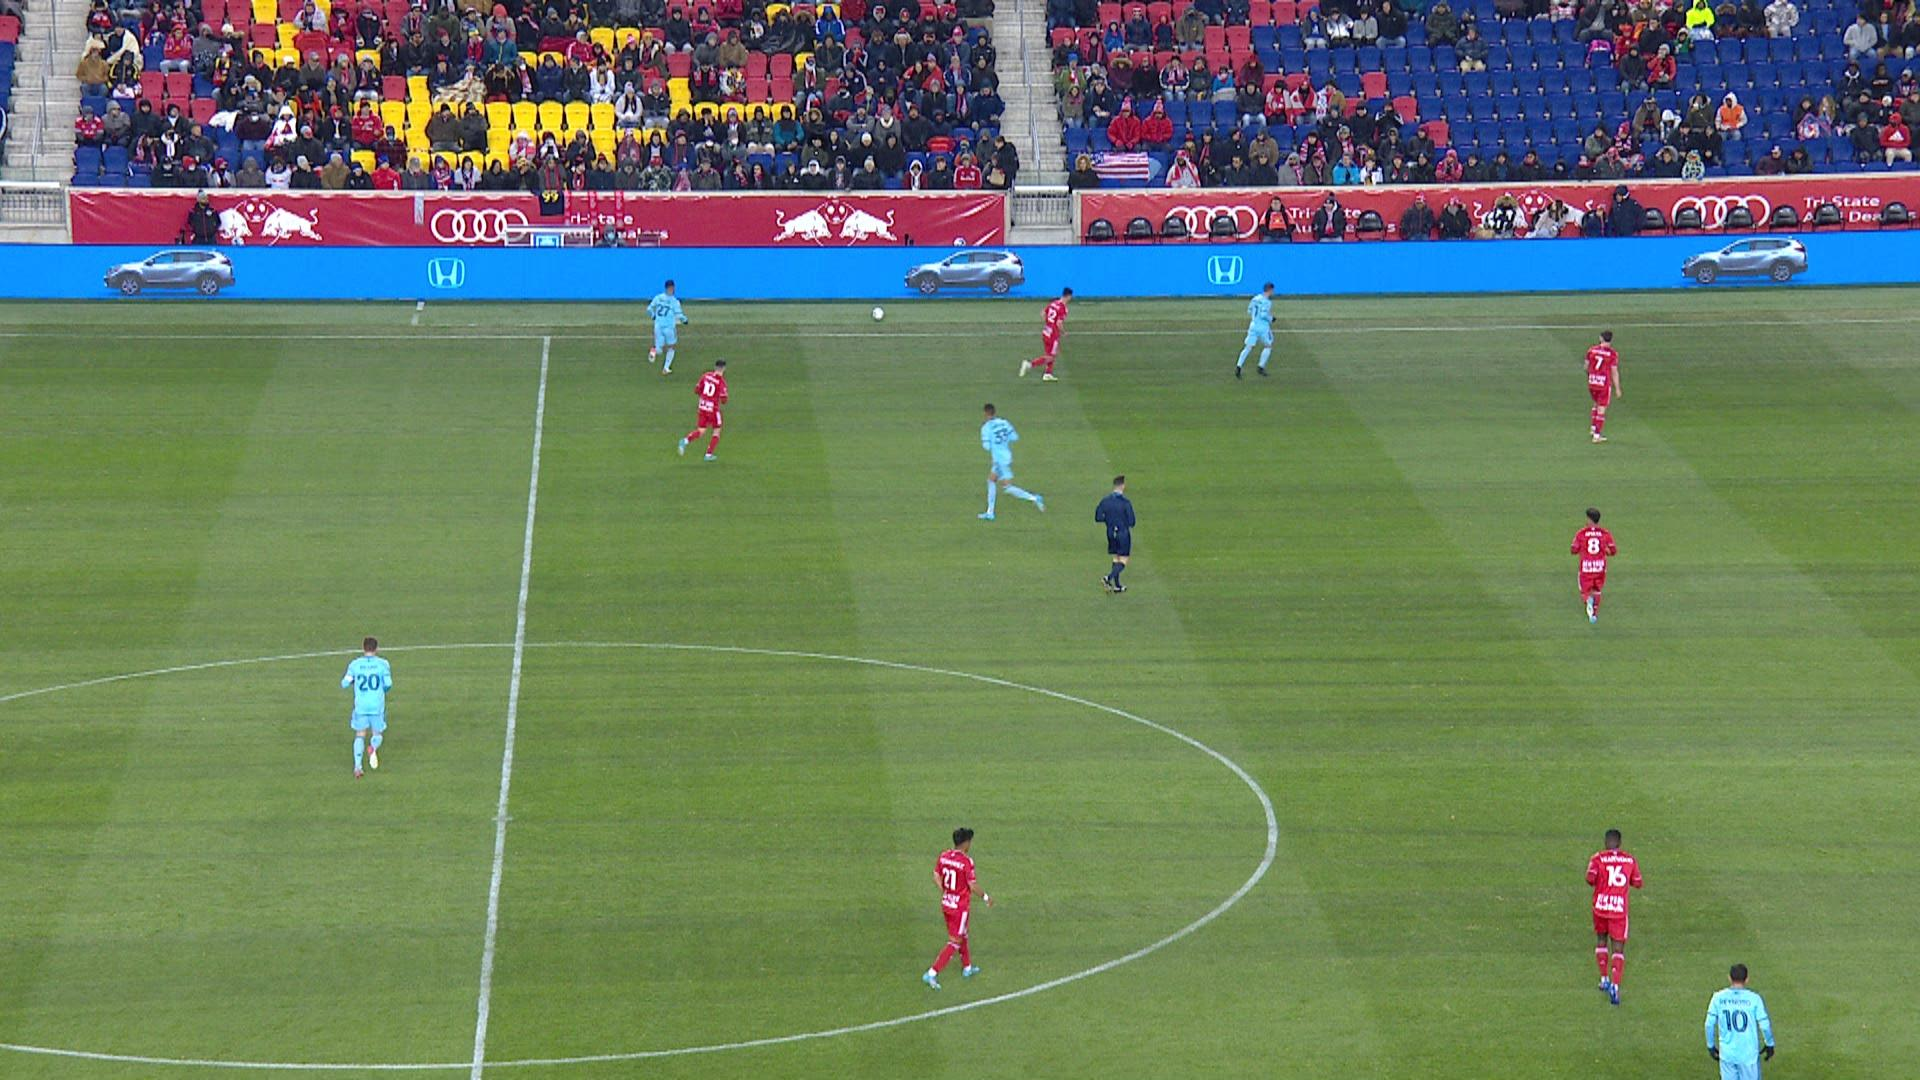football: (873, 306, 885, 320)
